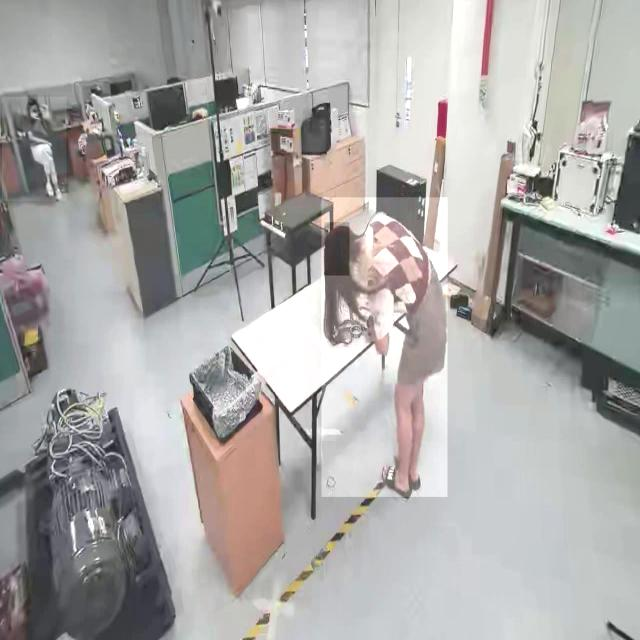face_mask: (28, 108, 40, 124)
head_nohelmet: (324, 222, 350, 276), (27, 94, 38, 106)
person: (321, 197, 447, 498), (1, 97, 66, 202)
shoes: (53, 185, 65, 203), (45, 180, 55, 198)
